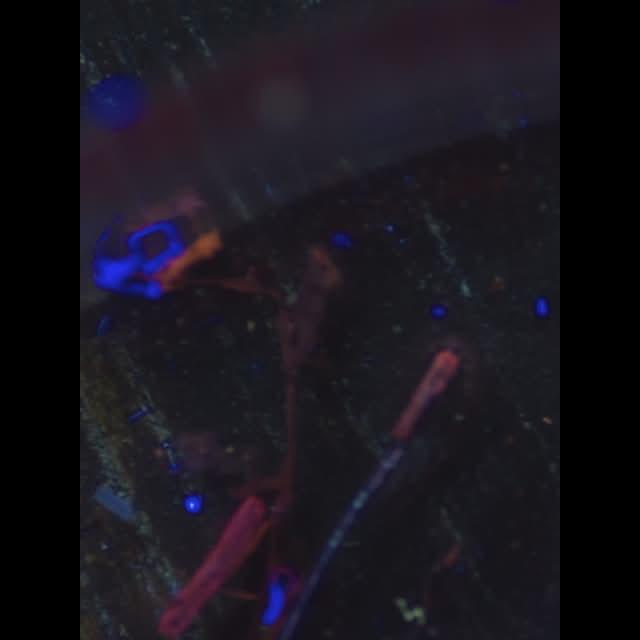Fibre: (397, 598, 428, 628)
